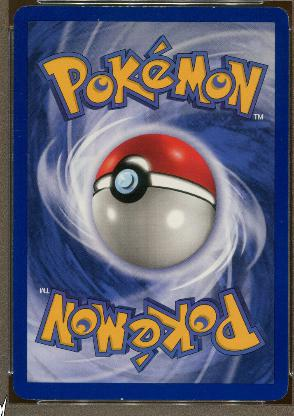Card: (10, 5, 288, 401)
Corner Wear: (270, 383, 287, 401), (12, 4, 31, 20), (274, 6, 288, 26)
Edge Wear: (23, 4, 219, 8), (22, 397, 38, 399), (119, 396, 123, 400), (191, 400, 200, 401)
Scratch: (278, 219, 281, 224), (14, 129, 19, 131)
